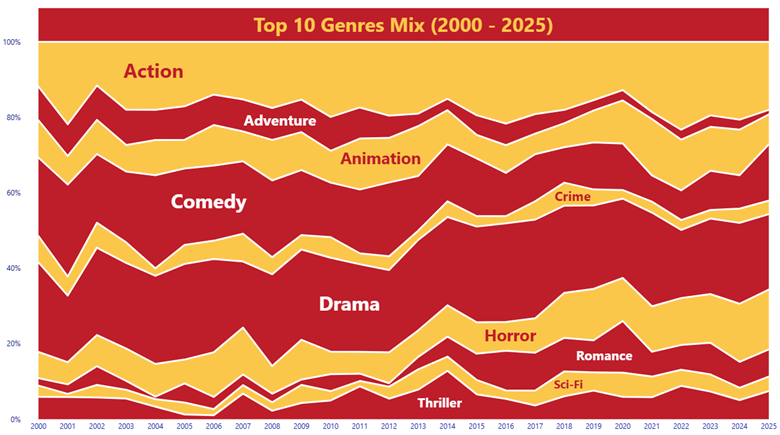

What the dashboard file says about the page in this screenshot:
{"tool":"powerbi","page":{"name":"Data Art","canvas":[1280,720],"ordinal":4},"visuals":[{"type":"hundredPercentStackedAreaChart","fields":{"Category":["df.ReleaseYear"],"Y":["df.GenrePopularityPct"],"Series":["df.Main_Genre"]},"box":[0,57.8,1280,660],"z":0,"group":"g1"},{"type":"textbox","box":[198.1,92,126,58.7],"z":1000,"group":"g1"},{"type":"textbox","box":[393.8,177.6,172.4,56.3],"z":2000,"group":"g1"},{"type":"textbox","box":[551.5,237.6,176.1,61.1],"z":3000,"group":"g1"},{"type":"textbox","box":[275.1,303.6,172.4,56.3],"z":4000,"group":"g1"},{"type":"textbox","box":[901.2,302.4,194.4,56.3],"z":5000,"group":"g1"},{"type":"textbox","box":[515.7,471,124.3,58.6],"z":6000,"group":"g1"},{"type":"textbox","box":[786.3,526.1,124.7,59.9],"z":7000,"group":"g1"},{"type":"textbox","box":[936.7,562.8,181,58.7],"z":8000,"group":"g1"},{"type":"textbox","box":[900,613,62.4,58.7],"z":9000,"group":"g1"},{"type":"textbox","box":[677.4,639.9,190.8,57.5],"z":10000,"group":"g1"},{"type":"group","id":"g1","title":"Group 1","box":[0,57.8,1280,660],"z":10001},{"type":"textbox","box":[63.5,16.5,1191.8,53.5],"z":10501}]}

Visuals, with their boxes in screenshot pixels (x1, y1, x2, y2), scaled from the page's 1280x720 canvas onto the 780x435 screenshot:
hundredPercentStackedAreaChart - df.ReleaseYear x df.GenrePopularityPct: pyautogui.locateOnScreen(0, 35, 779, 434)
textbox: pyautogui.locateOnScreen(121, 56, 197, 91)
textbox: pyautogui.locateOnScreen(240, 107, 345, 141)
textbox: pyautogui.locateOnScreen(336, 144, 443, 180)
textbox: pyautogui.locateOnScreen(168, 183, 273, 217)
textbox: pyautogui.locateOnScreen(549, 183, 668, 217)
textbox: pyautogui.locateOnScreen(314, 285, 390, 320)
textbox: pyautogui.locateOnScreen(479, 318, 555, 354)
textbox: pyautogui.locateOnScreen(571, 340, 681, 375)
textbox: pyautogui.locateOnScreen(548, 370, 586, 406)
textbox: pyautogui.locateOnScreen(413, 387, 529, 421)
"Group 1" group: pyautogui.locateOnScreen(0, 35, 779, 434)
textbox: pyautogui.locateOnScreen(39, 10, 765, 42)
